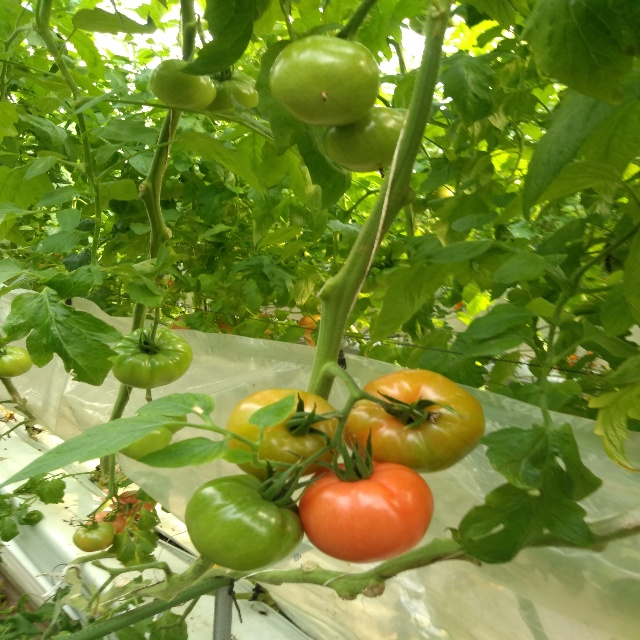b_fully_ripened: (297, 460, 435, 564)
b_green: (184, 474, 304, 571), (268, 35, 381, 126), (323, 106, 405, 173), (108, 327, 192, 389), (151, 59, 216, 111), (200, 69, 258, 120), (72, 521, 116, 552), (0, 346, 32, 378)
b_half_ripened: (341, 368, 486, 473), (222, 389, 345, 481), (84, 511, 127, 536)
